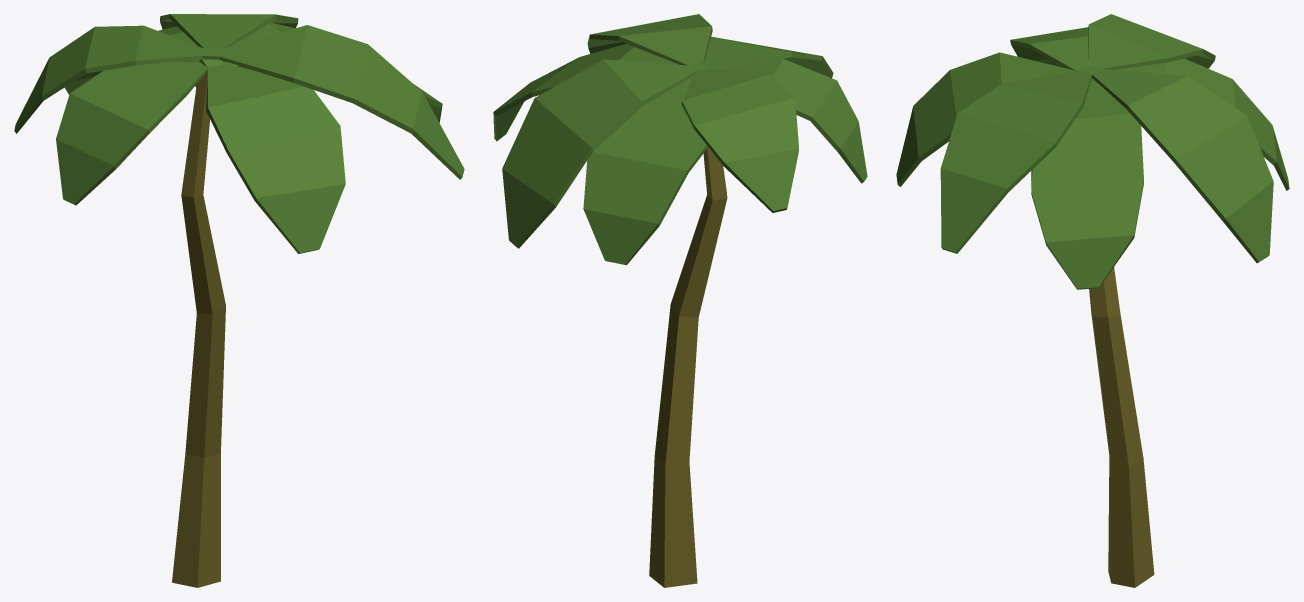
The model's file is Palm_4_low.fbx.
3 views of the same model, side by side, from view 1: azimuth 30°, elevation 25°; view 2: azimuth 150°, elevation 25°; view 3: azimuth 270°, elevation 25° (orthographic). The views are drawn at different scales.
Visible parts, largest first — view 1: Palma_4_low; view 2: Palma_4_low; view 3: Palma_4_low.
Part boxes in pixels (left/top/right/bottom): Palma_4_low: left=14, top=14, right=464, bottom=587; Palma_4_low: left=493, top=14, right=867, bottom=587; Palma_4_low: left=896, top=14, right=1289, bottom=587.
Size of the model in its own units: 2.94 by 4.06 by 2.81.
